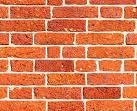brick: (88, 19, 137, 32), (76, 31, 124, 44), (33, 86, 81, 98), (87, 72, 134, 84), (1, 46, 47, 58), (1, 73, 47, 85), (85, 99, 135, 110), (82, 85, 121, 99), (1, 20, 46, 32), (86, 47, 135, 58), (34, 32, 75, 45), (47, 71, 85, 85), (1, 99, 46, 110), (34, 60, 75, 72), (10, 6, 50, 18), (47, 18, 87, 30), (53, 7, 98, 17), (47, 100, 85, 110), (7, 87, 32, 99), (9, 59, 33, 71), (98, 60, 122, 72), (100, 6, 123, 18), (11, 33, 34, 45), (75, 60, 98, 71), (62, 47, 85, 57), (90, 1, 136, 5), (124, 32, 137, 45), (125, 6, 137, 19), (124, 60, 137, 72), (47, 47, 61, 58), (123, 87, 137, 98), (1, 33, 10, 45), (1, 1, 46, 3), (1, 7, 9, 18), (1, 60, 9, 71), (1, 87, 8, 99), (65, 1, 88, 4), (46, 1, 63, 5)
